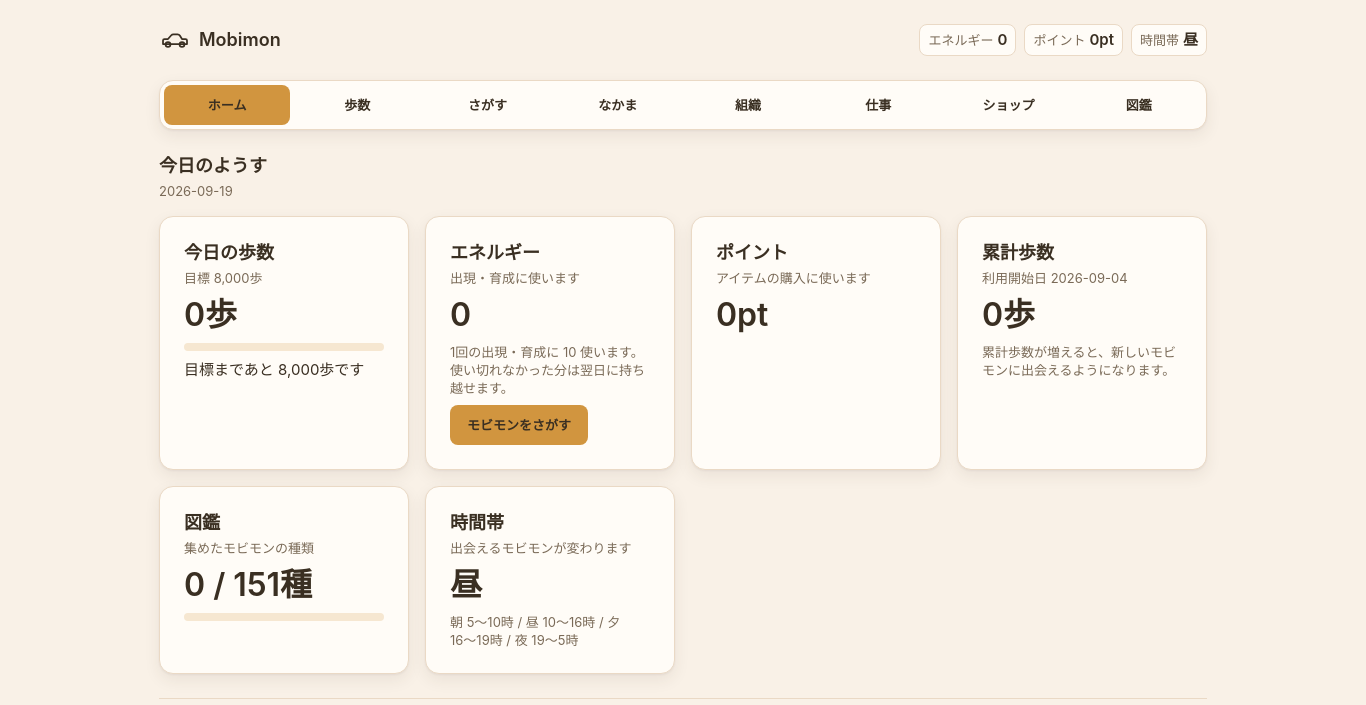
Test: App › メニューで画面を切り替え、選んだ項目を示す
The width and height of the screenshot is (1366, 705).
Click the button "図鑑" at (1139, 105), box [1076,85,1202,125]
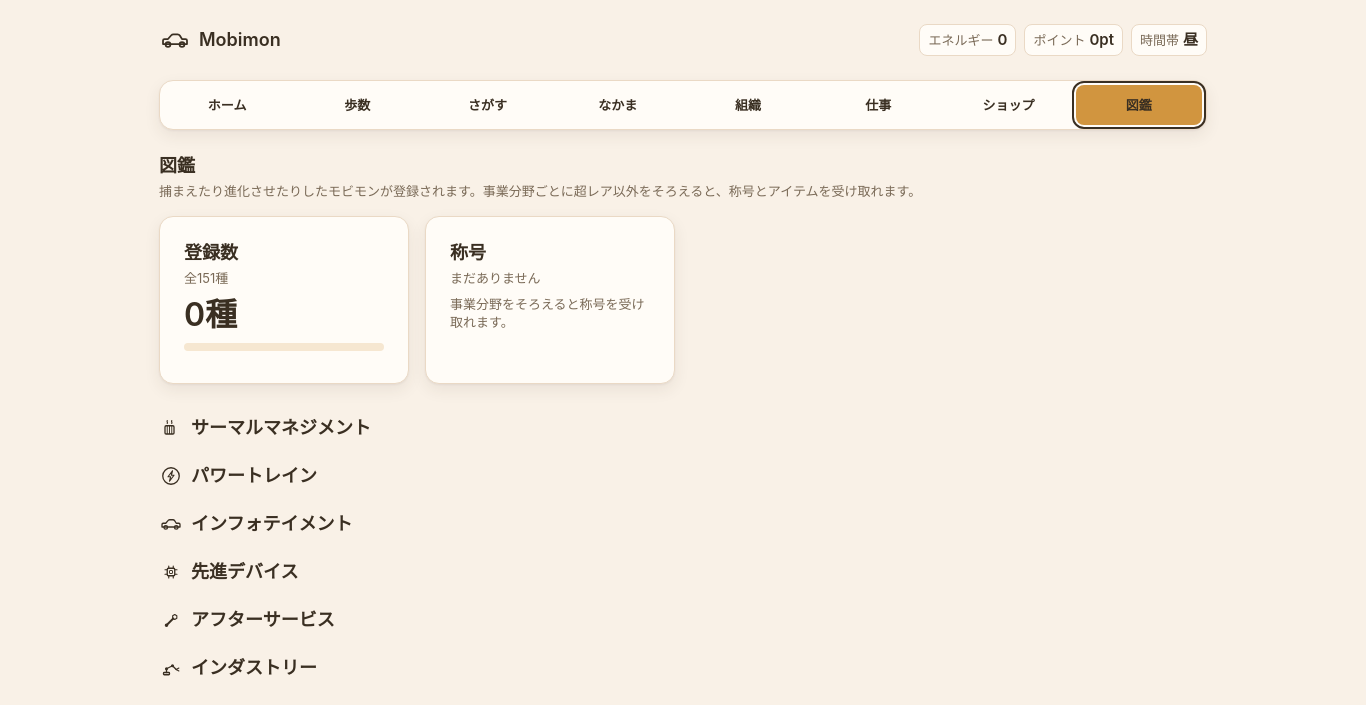
Expected: the heading "図鑑" is shown, [159,155,195,176]
Expected: the button "図鑑" is marked as current, [1076,85,1202,125]
Click the button "歩数" at (357, 105), box [294,85,421,125]
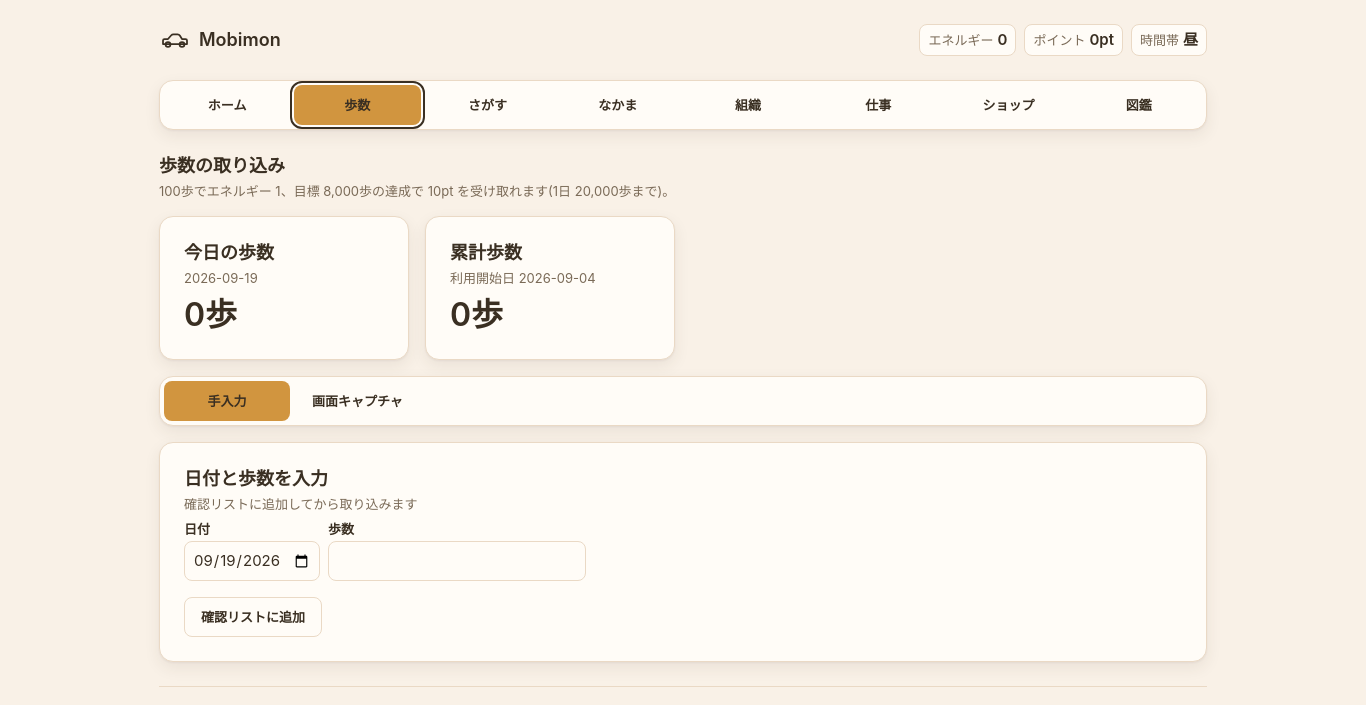
Expected: the heading "歩数の取り込み" is shown, [159,155,285,176]
Click the button "組織" at (748, 105), box [685,85,811,125]
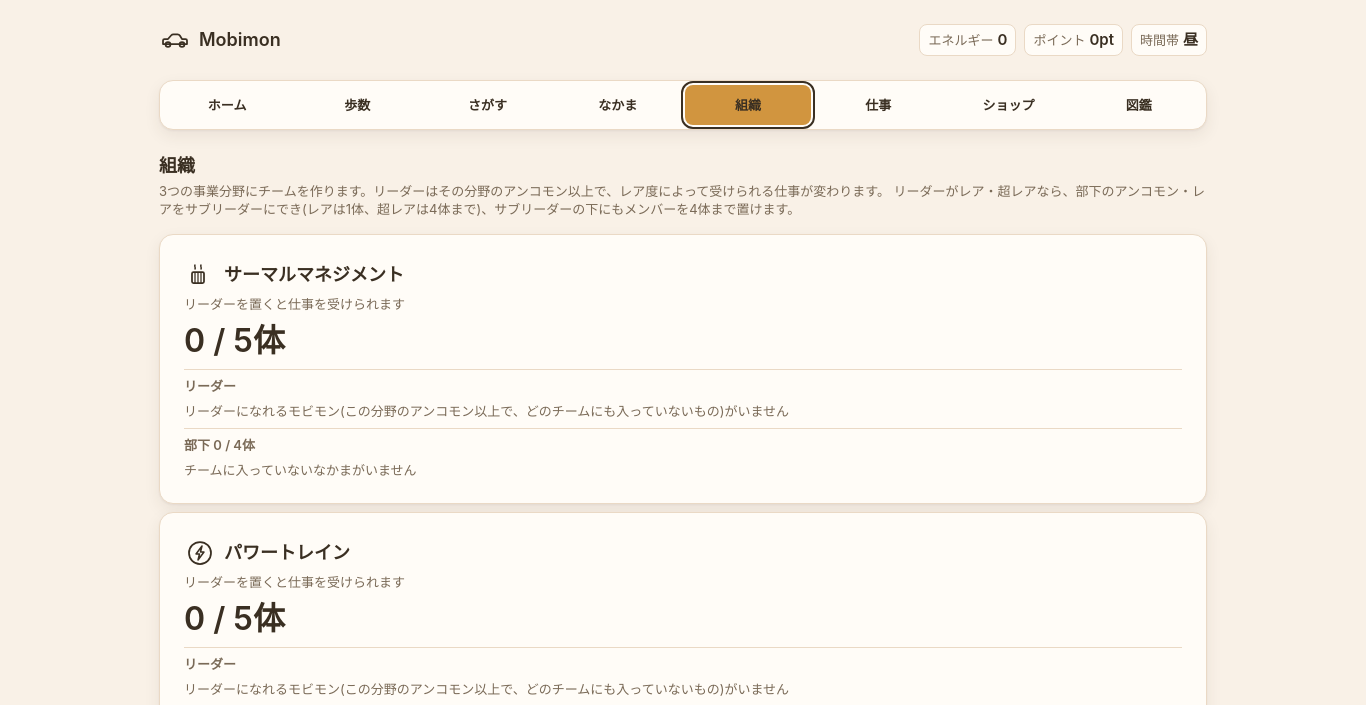
Expected: the heading "組織" is shown, [159,155,195,176]
